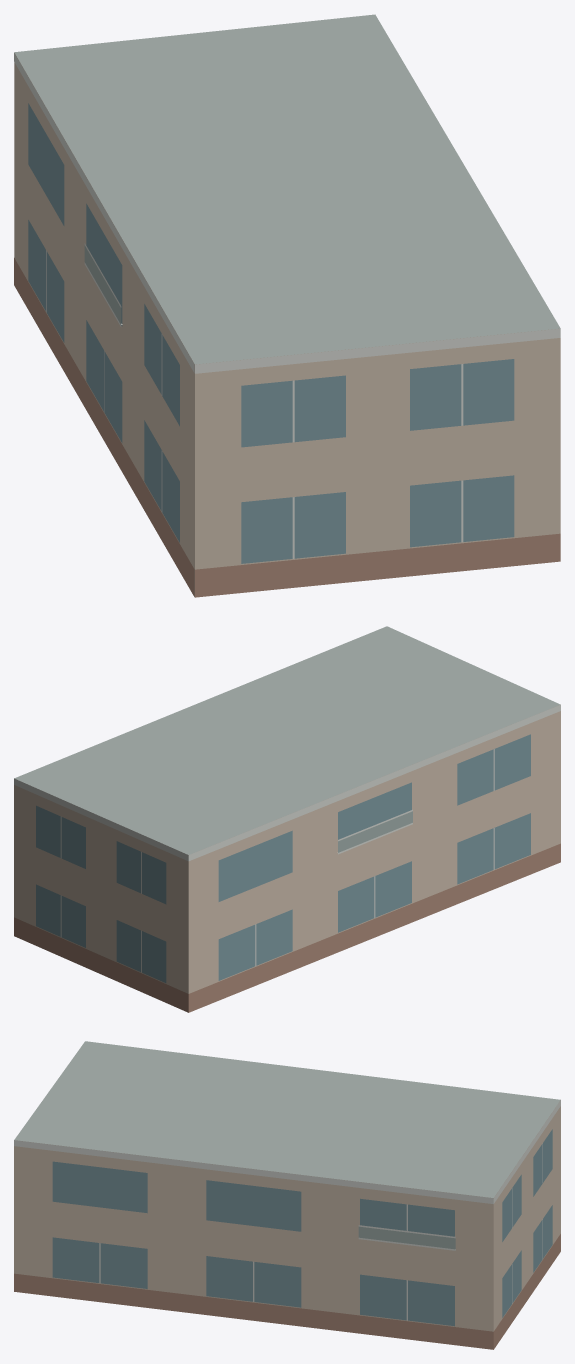
Rendered from survey-upis-32655125.glb.
The picture shows the model from 3 angles, top to bottom: view 1: azimuth 30°, elevation 25°; view 2: azimuth 150°, elevation 25°; view 3: azimuth 270°, elevation 25°; orthographic projection. The views are drawn at different scales.
Visible parts, largest first — view 1: survey-upis-32655125.tmp; view 2: survey-upis-32655125.tmp; view 3: survey-upis-32655125.tmp.
Boxes of the visible parts, left/top/right/bottom form: survey-upis-32655125.tmp: left=14, top=14, right=560, bottom=597; survey-upis-32655125.tmp: left=14, top=626, right=560, bottom=1012; survey-upis-32655125.tmp: left=14, top=1041, right=560, bottom=1349.
Size of the model in its own units: 13.55 by 6.1 by 19.94.
